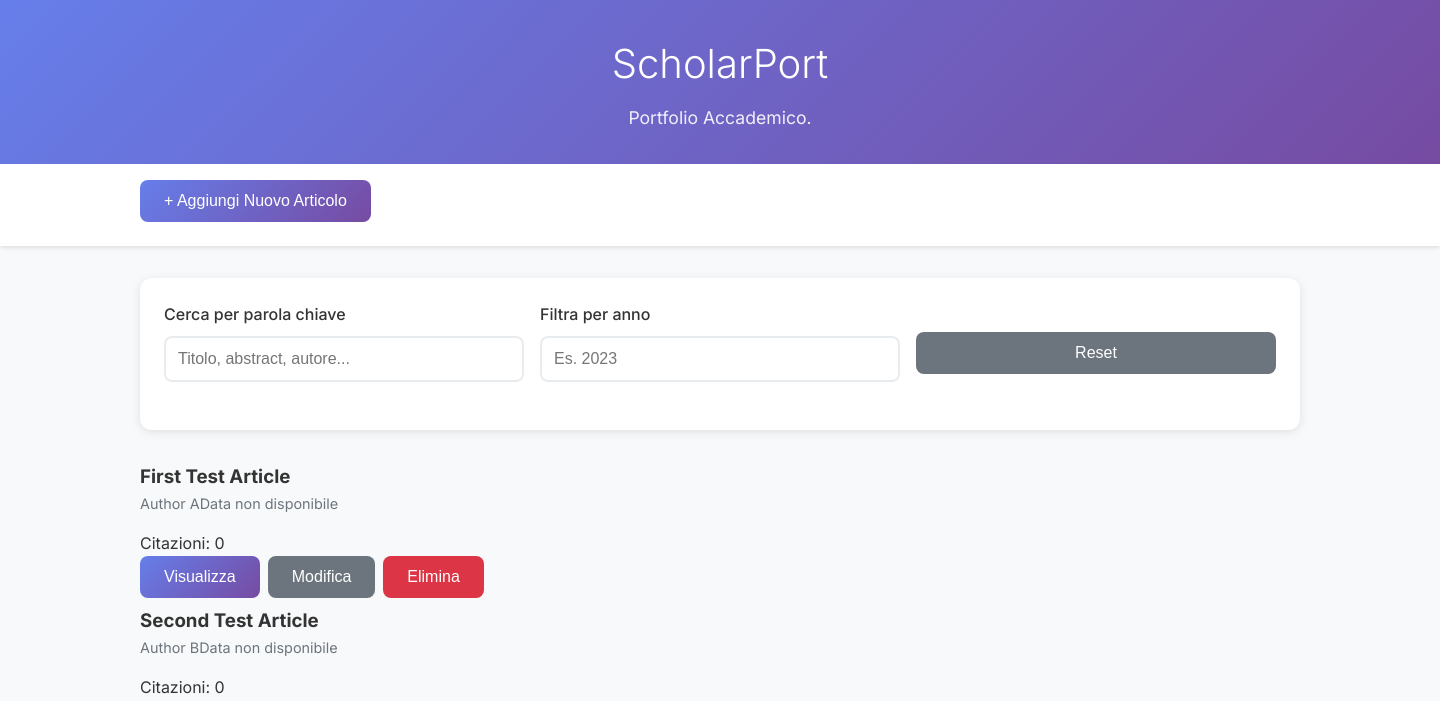
Test: App Component › 2. navigates to add article form when button is clicked
Expected: the heading "First Test Article" is shown, [140,465,290,488]
What coordinates should you click on to do the following:
click the button "+ Aggiungi Nuovo Articolo"
I would click on:
 (255, 201)
Its box is [140,180,371,222].
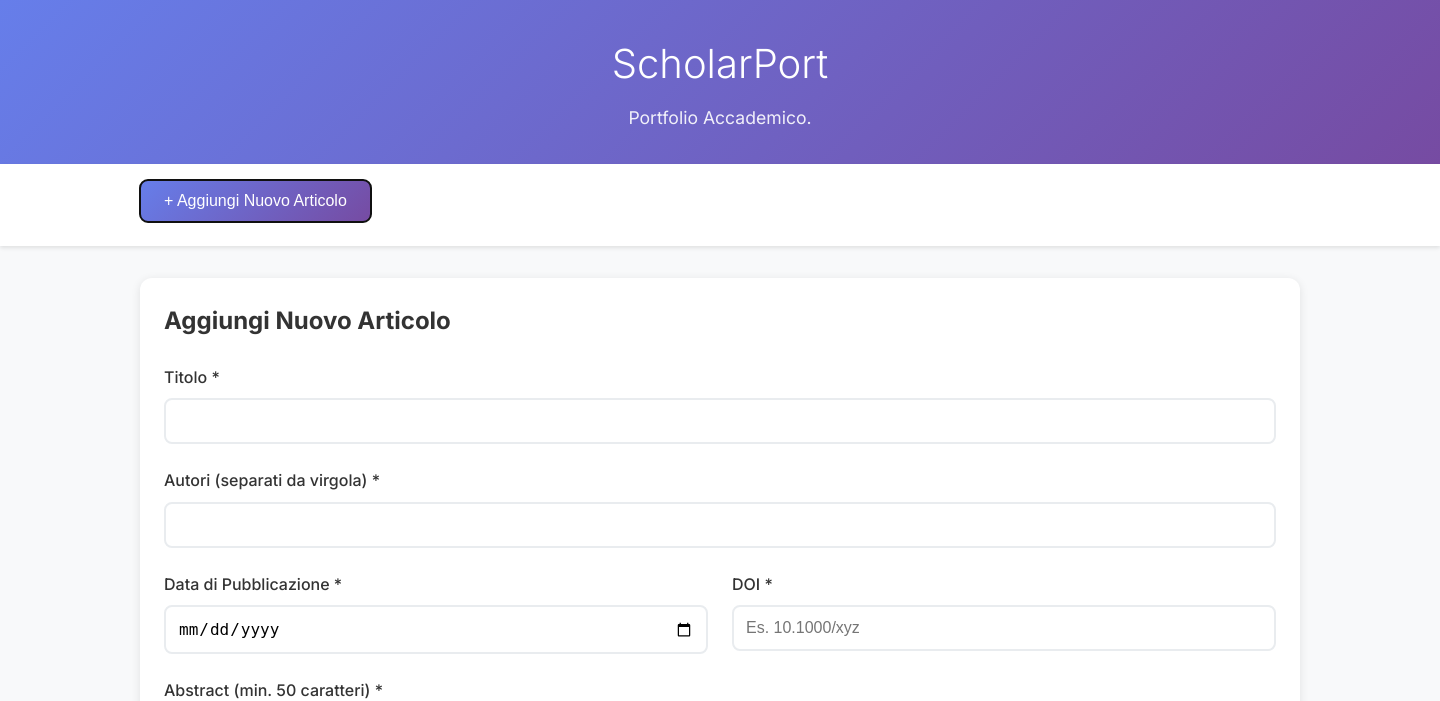
Now the heading "Aggiungi Nuovo Articolo" is shown, box [164,306,451,335]
